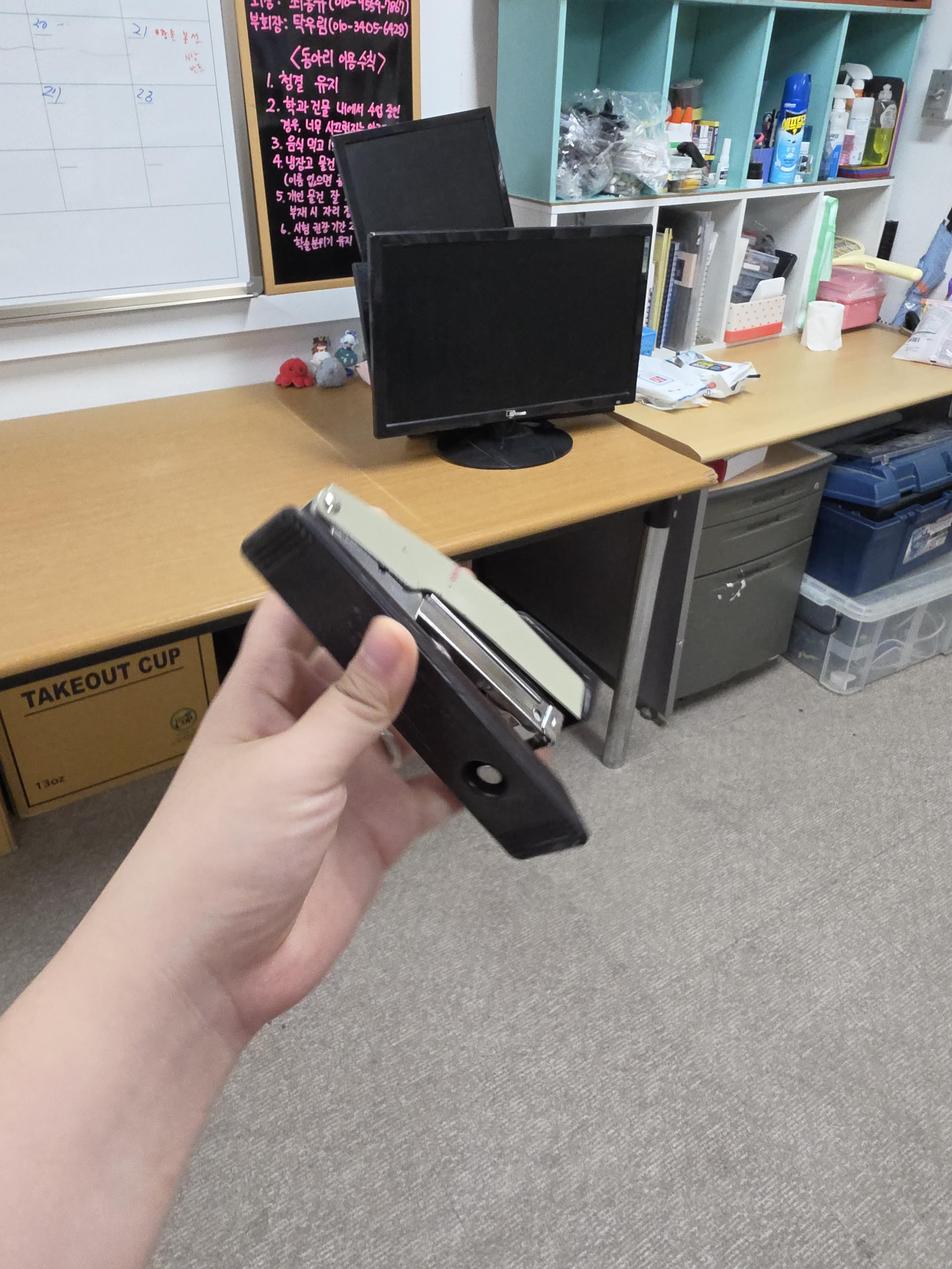stapler: (239, 482, 594, 861)
tissue: (803, 300, 845, 352)
